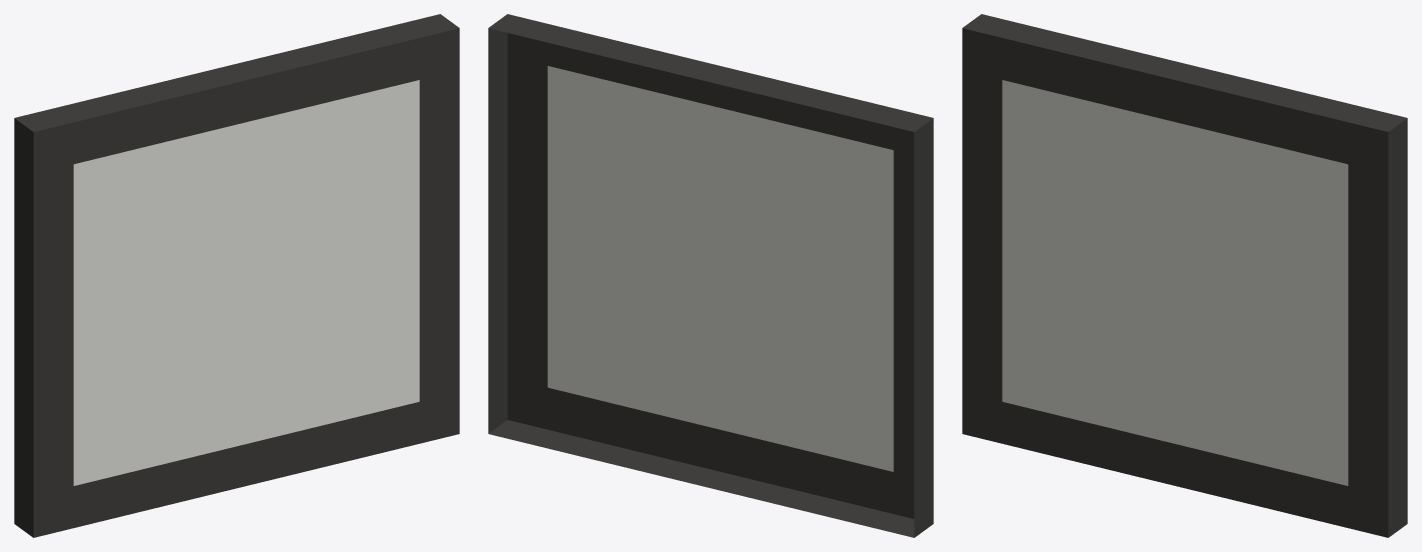
File: Paint_12.fbx
The picture shows the model from 3 angles, left to right: view 1: azimuth 30°, elevation 25°; view 2: azimuth 150°, elevation 25°; view 3: azimuth 330°, elevation 25°; orthographic projection.
Visible parts, largest first — view 1: polySurface950; view 2: polySurface950; view 3: polySurface950.
Boxes of the visible parts, x1=… form: polySurface950: x1=14, y1=14, x2=459, y2=537; polySurface950: x1=488, y1=14, x2=933, y2=537; polySurface950: x1=962, y1=14, x2=1407, y2=537.
Bounding box in the file's own units: 1.02 × 0.9271 × 0.08.
1 material, 1 textured.
